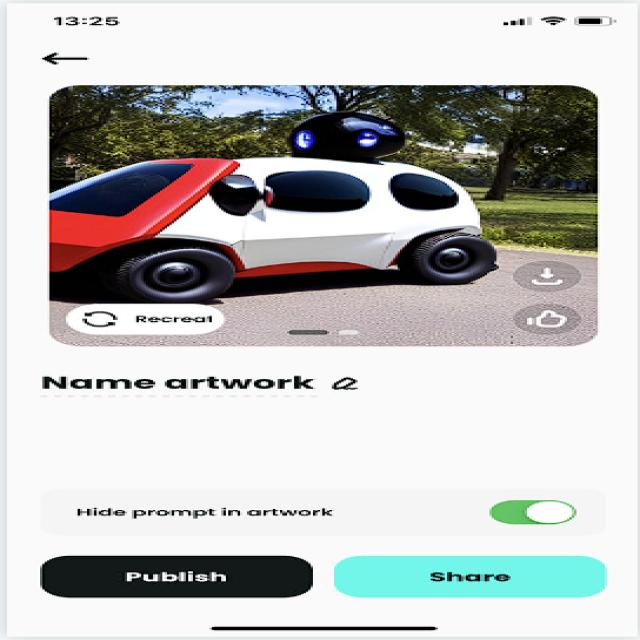button: (324, 546, 616, 602), (27, 549, 320, 602)
icon button: (9, 42, 122, 66)
image: (51, 82, 595, 344)
input: (36, 493, 597, 534)
spacer: (39, 411, 602, 484)
text: (33, 358, 383, 404)
